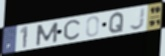0: (85, 15, 101, 38)
1: (19, 25, 30, 50)
C: (62, 19, 81, 41)
J: (129, 7, 147, 31)
M: (35, 21, 60, 47)
Q: (108, 12, 126, 34)
